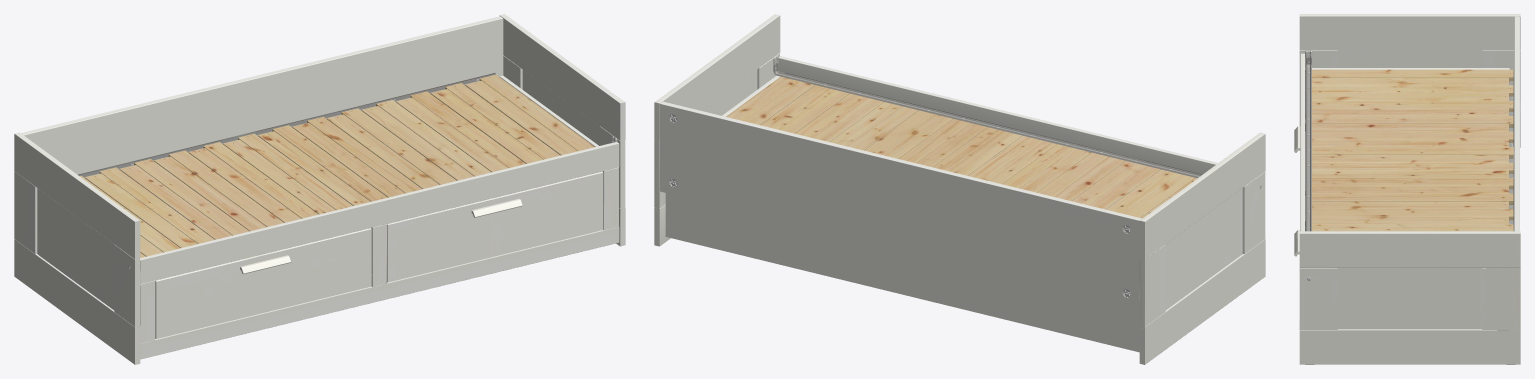
File: brimnes_rama_lezanki_z_2_szufladami_00228705.glb
3 renders of one model, left to right at view 1: azimuth 30°, elevation 25°; view 2: azimuth 150°, elevation 25°; view 3: azimuth 270°, elevation 25°, orthographic. The views are drawn at different scales.
Parts seen in each view (by area): view 1: brimnes_rama_lezanki_z_2_szufladami_00228705; view 2: brimnes_rama_lezanki_z_2_szufladami_00228705; view 3: brimnes_rama_lezanki_z_2_szufladami_00228705.
Boxes of the visible parts, x1,y1,x2,y2 form: brimnes_rama_lezanki_z_2_szufladami_00228705: [14, 14, 625, 364]; brimnes_rama_lezanki_z_2_szufladami_00228705: [654, 14, 1265, 364]; brimnes_rama_lezanki_z_2_szufladami_00228705: [1294, 14, 1520, 364].
Bounding box in the file's own units: 2.05 × 0.574 × 0.8914.
Materials: 1 (1 with a texture image).
